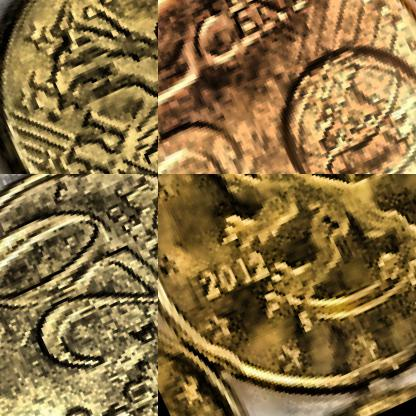coin: (158, 174, 415, 415), (158, 0, 415, 173), (0, 174, 157, 415), (0, 0, 157, 173)
